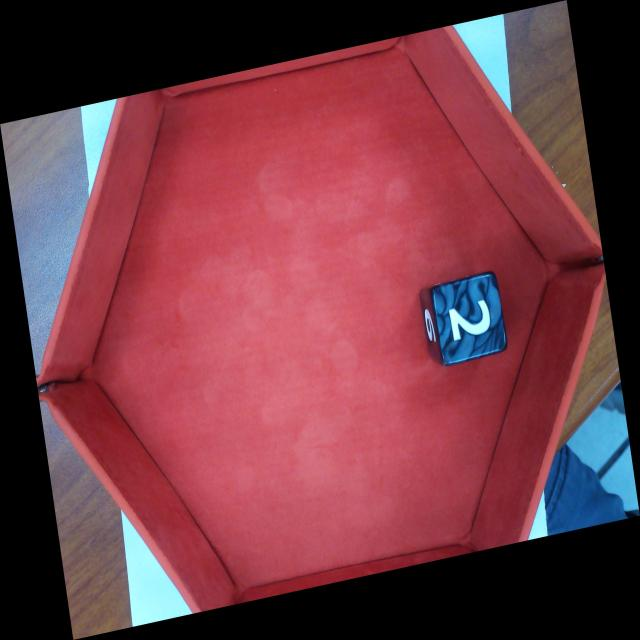dice: (433, 274, 506, 364)
